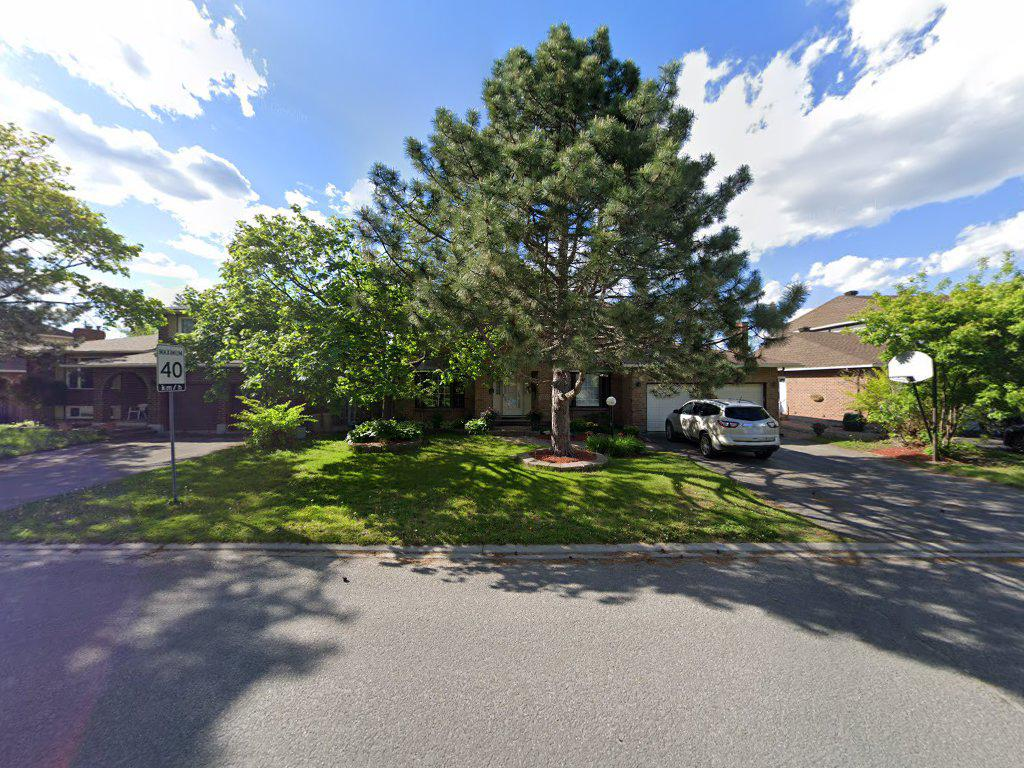trunk: (550, 340, 573, 465)
